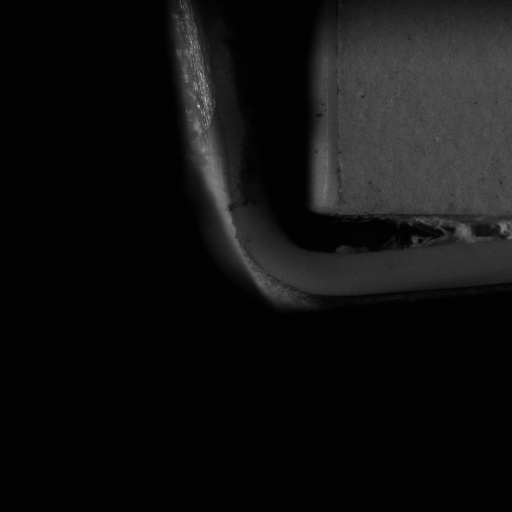kaijiao: (159, 4, 315, 325), (295, 205, 511, 310)
